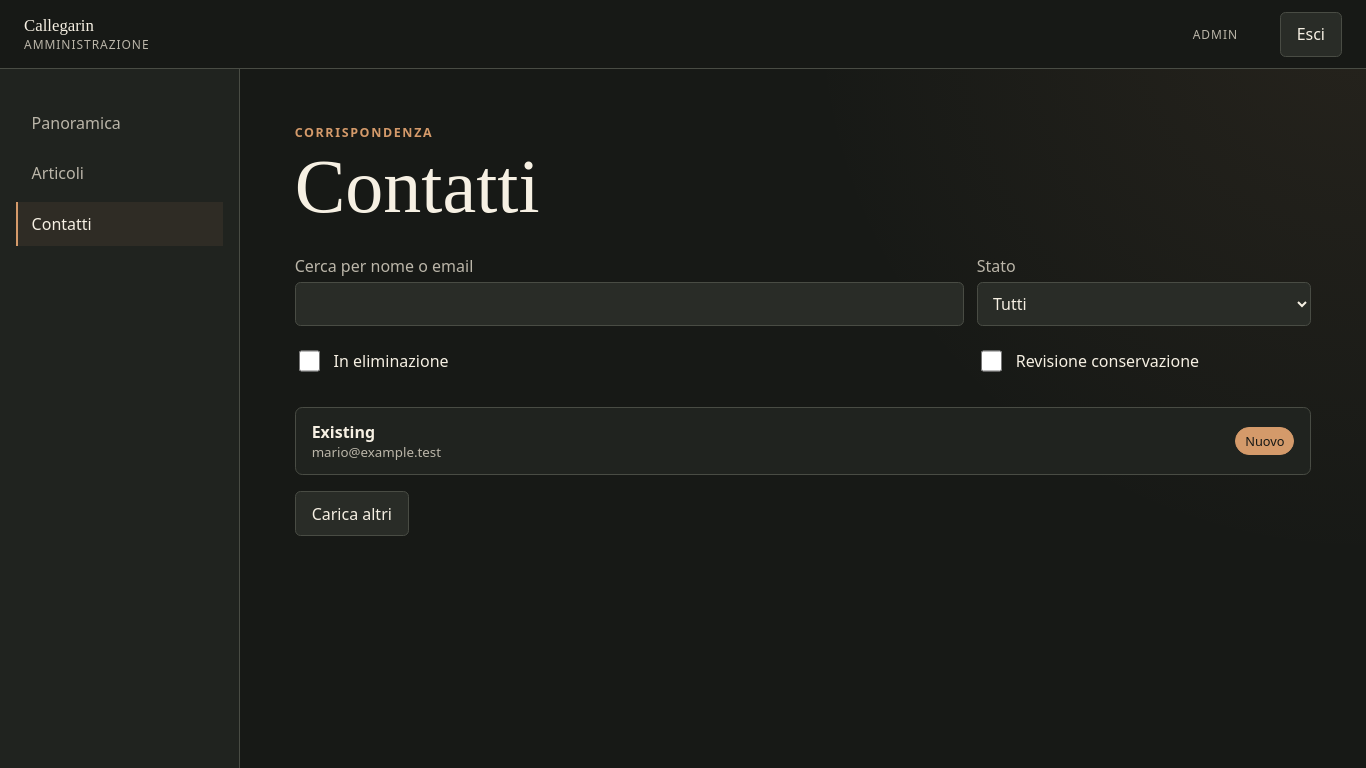
admin shell › skips sparse load-more pages and appends only unique contacts
Expected: the text "Existing" is shown, [312,421,375,443]
Click the button "Carica altri": (352, 514) [295,491,409,536]
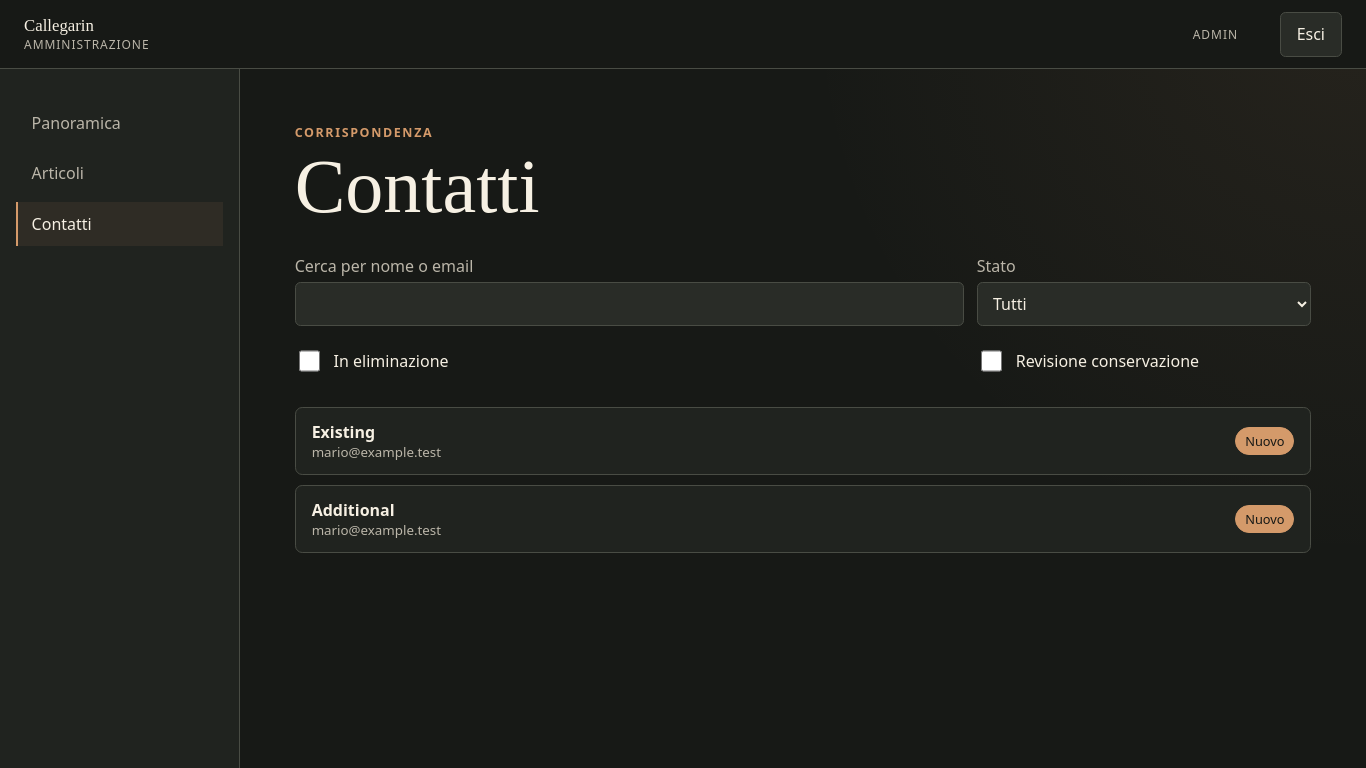
Expected: the text "Additional" is shown, [312,499,395,521]
Expected: the text "Existing" is shown once, [312,421,375,443]
Expected: the button "Carica altri" is gone
